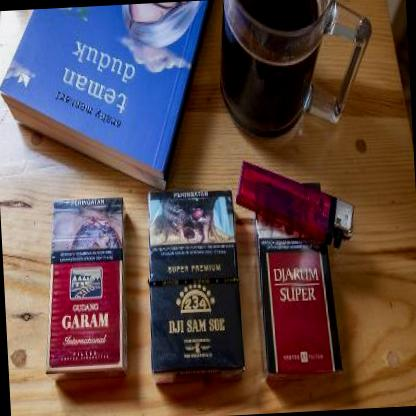objects: (142, 188, 245, 384), (36, 198, 134, 382), (254, 210, 342, 382)
